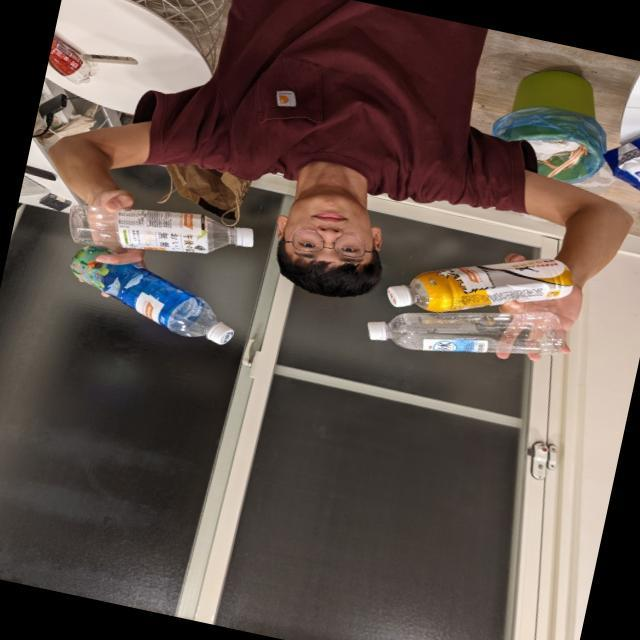good: (388, 220, 584, 342), (354, 282, 576, 387), (44, 244, 251, 356), (60, 176, 254, 282)
